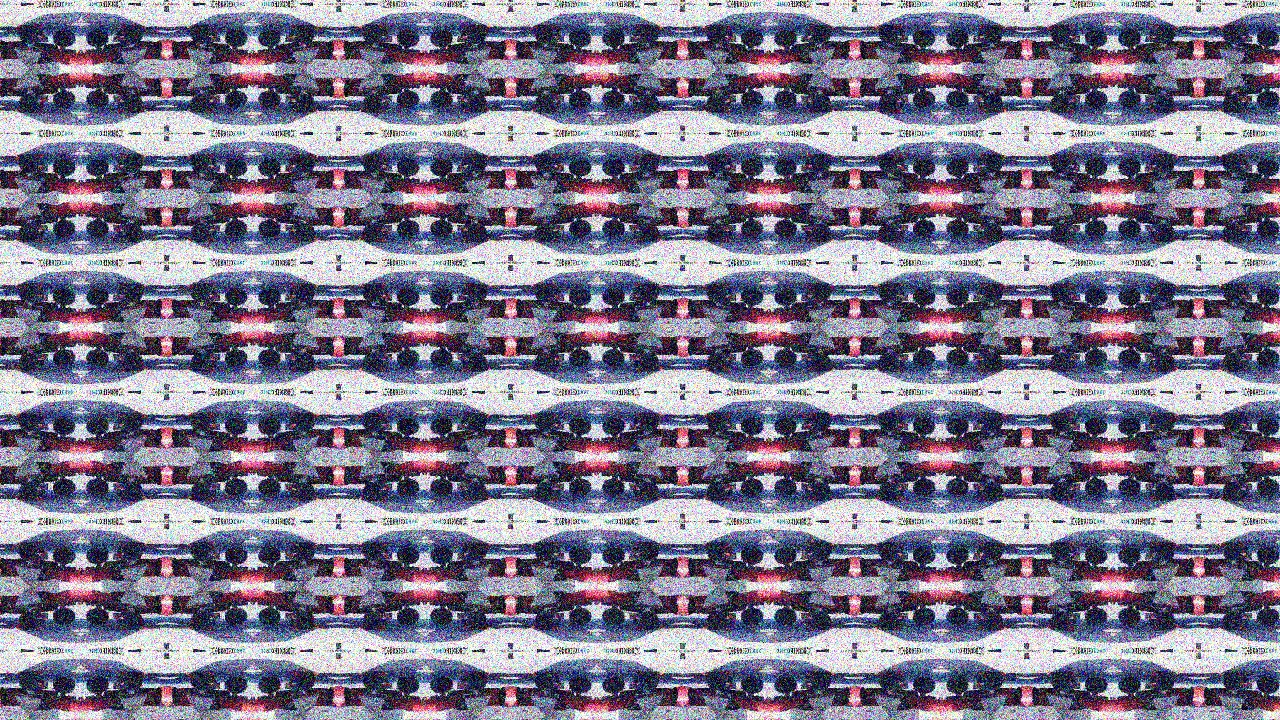chock: (35, 34, 46, 41), (111, 34, 122, 41), (208, 34, 219, 41), (284, 34, 295, 41), (380, 34, 391, 41), (457, 34, 468, 41), (553, 34, 564, 41), (629, 34, 640, 41), (726, 34, 737, 41), (802, 34, 813, 41), (898, 34, 909, 41), (975, 34, 986, 41), (1071, 34, 1082, 41), (1147, 34, 1158, 41), (1244, 34, 1255, 41), (35, 94, 46, 101), (111, 94, 122, 101), (208, 94, 219, 101), (284, 94, 295, 101), (380, 94, 391, 101), (457, 94, 468, 101), (553, 94, 564, 101), (629, 94, 640, 101), (726, 94, 737, 101), (802, 94, 813, 101), (898, 94, 909, 101), (975, 94, 986, 101), (1071, 94, 1082, 101), (1147, 94, 1158, 101), (1244, 94, 1255, 101), (35, 164, 46, 171), (111, 164, 122, 171), (208, 164, 219, 171), (284, 164, 295, 171), (380, 164, 391, 171), (457, 164, 468, 171), (553, 164, 564, 171), (629, 164, 640, 171), (726, 164, 737, 171), (802, 164, 813, 171), (898, 164, 909, 171), (975, 164, 986, 171), (1071, 164, 1082, 171), (1147, 164, 1158, 171), (1244, 164, 1255, 171), (35, 224, 46, 231), (111, 224, 122, 231), (208, 224, 219, 231), (284, 224, 295, 231), (380, 224, 391, 231), (457, 224, 468, 231), (553, 224, 564, 231), (629, 224, 640, 231), (726, 224, 737, 231), (802, 224, 813, 231), (898, 224, 909, 231), (975, 224, 986, 231), (1071, 224, 1082, 231), (1147, 224, 1158, 231), (1244, 224, 1255, 231), (35, 294, 46, 301), (111, 294, 122, 301), (208, 294, 219, 301), (284, 294, 295, 301), (380, 294, 391, 301), (457, 294, 468, 301), (553, 294, 564, 301), (629, 294, 640, 301), (726, 294, 737, 301), (802, 294, 813, 301), (898, 294, 909, 301), (975, 294, 986, 301), (1071, 294, 1082, 301), (1147, 294, 1158, 301), (1244, 294, 1255, 301), (35, 354, 46, 361), (111, 354, 122, 361), (208, 354, 219, 361), (284, 354, 295, 361), (380, 354, 391, 361), (457, 354, 468, 361), (553, 354, 564, 361), (629, 354, 640, 361), (726, 354, 737, 361), (802, 354, 813, 361), (898, 354, 909, 361), (975, 354, 986, 361), (1071, 354, 1082, 361), (1147, 354, 1158, 361), (1244, 354, 1255, 361), (35, 424, 46, 431), (111, 424, 122, 431), (208, 424, 219, 431), (284, 424, 295, 431), (380, 424, 391, 431), (457, 424, 468, 431), (553, 424, 564, 431), (629, 424, 640, 431), (726, 424, 737, 431), (802, 424, 813, 431), (898, 424, 909, 431), (975, 424, 986, 431), (1071, 424, 1082, 431), (1147, 424, 1158, 431), (1244, 424, 1255, 431), (35, 484, 46, 491), (111, 484, 122, 491), (208, 484, 219, 491), (284, 484, 295, 491), (380, 484, 391, 491), (457, 484, 468, 491), (553, 484, 564, 491), (629, 484, 640, 491), (726, 484, 737, 491), (802, 484, 813, 491), (898, 484, 909, 491), (975, 484, 986, 491), (1071, 484, 1082, 491), (1147, 484, 1158, 491), (1244, 484, 1255, 491), (35, 554, 46, 561), (111, 554, 122, 561), (208, 554, 219, 561), (284, 554, 295, 561), (380, 554, 391, 561), (457, 554, 468, 561), (553, 554, 564, 561), (629, 554, 640, 561), (726, 554, 737, 561), (802, 554, 813, 561), (898, 554, 909, 561), (975, 554, 986, 561), (1071, 554, 1082, 561), (1147, 554, 1158, 561), (1244, 554, 1255, 561), (35, 614, 46, 621), (111, 614, 122, 621), (208, 614, 219, 621), (284, 614, 295, 621), (380, 614, 391, 621), (457, 614, 468, 621), (553, 614, 564, 621), (629, 614, 640, 621), (726, 614, 737, 621), (802, 614, 813, 621), (898, 614, 909, 621), (975, 614, 986, 621), (1071, 614, 1082, 621), (1147, 614, 1158, 621), (1244, 614, 1255, 621), (35, 684, 46, 691), (111, 684, 122, 691), (208, 684, 219, 691), (284, 684, 295, 691), (380, 684, 391, 691), (457, 684, 468, 691), (553, 684, 564, 691), (629, 684, 640, 691), (726, 684, 737, 691), (802, 684, 813, 691), (898, 684, 909, 691), (975, 684, 986, 691), (1071, 684, 1082, 691), (1147, 684, 1158, 691), (1244, 684, 1255, 691), (115, 23, 126, 29), (204, 23, 215, 29), (633, 23, 644, 29), (722, 23, 733, 29), (1151, 23, 1162, 29), (1240, 23, 1251, 29), (115, 106, 126, 112), (204, 106, 215, 112), (633, 106, 644, 112), (722, 106, 733, 112), (1151, 106, 1162, 112), (1240, 106, 1251, 112), (115, 153, 126, 159), (204, 153, 215, 159), (633, 153, 644, 159), (722, 153, 733, 159), (1151, 153, 1162, 159), (1240, 153, 1251, 159), (115, 236, 126, 242), (204, 236, 215, 242), (633, 236, 644, 242), (722, 236, 733, 242), (1151, 236, 1162, 242), (1240, 236, 1251, 242), (115, 283, 126, 289), (204, 283, 215, 289), (633, 283, 644, 289), (722, 283, 733, 289), (1151, 283, 1162, 289), (1240, 283, 1251, 289), (115, 366, 126, 372), (204, 366, 215, 372), (633, 366, 644, 372), (722, 366, 733, 372), (1151, 366, 1162, 372), (1240, 366, 1251, 372), (115, 413, 126, 419), (204, 413, 215, 419), (633, 413, 644, 419), (722, 413, 733, 419), (1151, 413, 1162, 419), (1240, 413, 1251, 419), (115, 496, 126, 502), (204, 496, 215, 502), (633, 496, 644, 502), (722, 496, 733, 502), (1151, 496, 1162, 502), (1240, 496, 1251, 502), (115, 543, 126, 549), (204, 543, 215, 549), (633, 543, 644, 549), (722, 543, 733, 549), (1151, 543, 1162, 549), (1240, 543, 1251, 549), (115, 626, 126, 632), (204, 626, 215, 632), (633, 626, 644, 632), (722, 626, 733, 632), (1151, 626, 1162, 632), (1240, 626, 1251, 632), (115, 673, 126, 679), (204, 673, 215, 679), (633, 673, 644, 679), (722, 673, 733, 679), (1151, 673, 1162, 679), (1240, 673, 1251, 679), (32, 23, 42, 29), (288, 23, 298, 29), (377, 23, 387, 29), (461, 23, 471, 29), (550, 23, 560, 29), (806, 23, 816, 29), (895, 23, 905, 29), (979, 23, 989, 29), (1068, 23, 1078, 29), (32, 106, 42, 112), (288, 106, 298, 112), (377, 106, 387, 112), (461, 106, 471, 112), (550, 106, 560, 112), (806, 106, 816, 112), (895, 106, 905, 112), (979, 106, 989, 112), (1068, 106, 1078, 112), (32, 153, 42, 159), (288, 153, 298, 159), (377, 153, 387, 159), (461, 153, 471, 159), (550, 153, 560, 159), (806, 153, 816, 159), (895, 153, 905, 159), (979, 153, 989, 159), (1068, 153, 1078, 159), (32, 236, 42, 242), (288, 236, 298, 242), (377, 236, 387, 242), (461, 236, 471, 242), (550, 236, 560, 242), (806, 236, 816, 242), (895, 236, 905, 242), (979, 236, 989, 242), (1068, 236, 1078, 242), (32, 283, 42, 289), (288, 283, 298, 289), (377, 283, 387, 289), (461, 283, 471, 289), (550, 283, 560, 289), (806, 283, 816, 289), (895, 283, 905, 289), (979, 283, 989, 289), (1068, 283, 1078, 289), (32, 366, 42, 372), (288, 366, 298, 372), (377, 366, 387, 372), (461, 366, 471, 372), (550, 366, 560, 372), (806, 366, 816, 372), (895, 366, 905, 372), (979, 366, 989, 372), (1068, 366, 1078, 372), (32, 413, 42, 419), (288, 413, 298, 419), (377, 413, 387, 419), (461, 413, 471, 419), (550, 413, 560, 419), (806, 413, 816, 419), (895, 413, 905, 419), (979, 413, 989, 419), (1068, 413, 1078, 419), (32, 496, 42, 502), (288, 496, 298, 502), (377, 496, 387, 502), (461, 496, 471, 502), (550, 496, 560, 502), (806, 496, 816, 502), (895, 496, 905, 502), (979, 496, 989, 502), (1068, 496, 1078, 502), (32, 543, 42, 549), (288, 543, 298, 549), (377, 543, 387, 549), (461, 543, 471, 549), (550, 543, 560, 549), (806, 543, 816, 549), (895, 543, 905, 549), (979, 543, 989, 549), (1068, 543, 1078, 549), (32, 626, 42, 632), (288, 626, 298, 632), (377, 626, 387, 632), (461, 626, 471, 632), (550, 626, 560, 632), (806, 626, 816, 632), (895, 626, 905, 632), (979, 626, 989, 632), (1068, 626, 1078, 632), (32, 673, 42, 679), (288, 673, 298, 679), (377, 673, 387, 679), (461, 673, 471, 679), (550, 673, 560, 679), (806, 673, 816, 679), (895, 673, 905, 679), (979, 673, 989, 679), (1068, 673, 1078, 679), (12, 105, 21, 111), (309, 105, 318, 111), (357, 105, 366, 111), (482, 105, 491, 111), (530, 105, 539, 111), (827, 105, 836, 111), (875, 105, 884, 111), (1000, 105, 1009, 111), (1048, 105, 1057, 111), (12, 235, 21, 241), (309, 235, 318, 241), (357, 235, 366, 241), (482, 235, 491, 241), (530, 235, 539, 241), (827, 235, 836, 241), (875, 235, 884, 241), (1000, 235, 1009, 241), (1048, 235, 1057, 241), (12, 365, 21, 371), (309, 365, 318, 371), (357, 365, 366, 371), (482, 365, 491, 371), (530, 365, 539, 371), (827, 365, 836, 371), (875, 365, 884, 371), (1000, 365, 1009, 371), (1048, 365, 1057, 371), (12, 495, 21, 501), (309, 495, 318, 501), (357, 495, 366, 501), (482, 495, 491, 501), (530, 495, 539, 501), (827, 495, 836, 501), (875, 495, 884, 501), (1000, 495, 1009, 501), (1048, 495, 1057, 501), (12, 625, 21, 631), (309, 625, 318, 631), (357, 625, 366, 631), (482, 625, 491, 631), (530, 625, 539, 631), (827, 625, 836, 631), (875, 625, 884, 631), (1000, 625, 1009, 631), (1048, 625, 1057, 631), (137, 105, 145, 111), (185, 105, 193, 111), (655, 105, 663, 111), (703, 105, 711, 111), (1173, 105, 1181, 111), (1221, 105, 1229, 111), (137, 235, 145, 241), (185, 235, 193, 241), (655, 235, 663, 241), (703, 235, 711, 241), (1173, 235, 1181, 241), (1221, 235, 1229, 241), (137, 365, 145, 371), (185, 365, 193, 371), (655, 365, 663, 371), (703, 365, 711, 371), (1173, 365, 1181, 371), (1221, 365, 1229, 371), (137, 495, 145, 501), (185, 495, 193, 501), (655, 495, 663, 501), (703, 495, 711, 501), (1173, 495, 1181, 501), (1221, 495, 1229, 501), (137, 625, 145, 631), (185, 625, 193, 631), (655, 625, 663, 631), (703, 625, 711, 631), (1173, 625, 1181, 631), (1221, 625, 1229, 631), (12, 24, 21, 29), (309, 24, 318, 29), (357, 24, 366, 29), (482, 24, 491, 29), (530, 24, 539, 29), (827, 24, 836, 29), (875, 24, 884, 29), (1000, 24, 1009, 29), (1048, 24, 1057, 29), (12, 154, 21, 159), (309, 154, 318, 159), (357, 154, 366, 159), (482, 154, 491, 159), (530, 154, 539, 159), (827, 154, 836, 159), (875, 154, 884, 159), (1000, 154, 1009, 159), (1048, 154, 1057, 159), (12, 284, 21, 289), (309, 284, 318, 289), (357, 284, 366, 289), (482, 284, 491, 289), (530, 284, 539, 289), (827, 284, 836, 289), (875, 284, 884, 289), (1000, 284, 1009, 289), (1048, 284, 1057, 289), (12, 414, 21, 419), (309, 414, 318, 419), (357, 414, 366, 419), (482, 414, 491, 419), (530, 414, 539, 419), (827, 414, 836, 419), (875, 414, 884, 419), (1000, 414, 1009, 419), (1048, 414, 1057, 419), (12, 544, 21, 549), (309, 544, 318, 549), (357, 544, 366, 549), (482, 544, 491, 549), (530, 544, 539, 549), (827, 544, 836, 549), (875, 544, 884, 549), (1000, 544, 1009, 549), (1048, 544, 1057, 549), (12, 674, 21, 679), (309, 674, 318, 679), (357, 674, 366, 679), (482, 674, 491, 679), (530, 674, 539, 679), (827, 674, 836, 679), (875, 674, 884, 679), (1000, 674, 1009, 679), (1048, 674, 1057, 679), (137, 24, 145, 29), (185, 24, 193, 29), (655, 24, 663, 29), (703, 24, 711, 29), (1173, 24, 1181, 29), (1221, 24, 1229, 29), (137, 154, 145, 159), (185, 154, 193, 159), (655, 154, 663, 159), (703, 154, 711, 159), (1173, 154, 1181, 159), (1221, 154, 1229, 159), (137, 284, 145, 289), (185, 284, 193, 289), (655, 284, 663, 289), (703, 284, 711, 289), (1173, 284, 1181, 289), (1221, 284, 1229, 289), (137, 414, 145, 419), (185, 414, 193, 419), (655, 414, 663, 419), (703, 414, 711, 419), (1173, 414, 1181, 419), (1221, 414, 1229, 419), (137, 544, 145, 549), (185, 544, 193, 549), (655, 544, 663, 549), (703, 544, 711, 549), (1173, 544, 1181, 549), (1221, 544, 1229, 549), (137, 674, 145, 679), (185, 674, 193, 679), (655, 674, 663, 679), (703, 674, 711, 679), (1173, 674, 1181, 679), (1221, 674, 1229, 679), (162, 4, 165, 11), (165, 4, 168, 11), (335, 4, 338, 11), (510, 4, 513, 11), (680, 4, 683, 11), (683, 4, 686, 11), (853, 4, 856, 11), (1028, 4, 1031, 11), (1198, 4, 1201, 11), (1201, 4, 1204, 11), (162, 134, 165, 141), (165, 134, 168, 141), (335, 134, 338, 141), (510, 134, 513, 141), (680, 134, 683, 141), (683, 134, 686, 141), (853, 134, 856, 141), (1028, 134, 1031, 141), (1198, 134, 1201, 141), (1201, 134, 1204, 141), (162, 264, 165, 271), (165, 264, 168, 271), (335, 264, 338, 271), (510, 264, 513, 271), (680, 264, 683, 271), (683, 264, 686, 271), (853, 264, 856, 271), (1028, 264, 1031, 271), (1198, 264, 1201, 271), (1201, 264, 1204, 271), (162, 394, 165, 401), (165, 394, 168, 401), (335, 394, 338, 401), (510, 394, 513, 401), (680, 394, 683, 401), (683, 394, 686, 401), (853, 394, 856, 401), (1028, 394, 1031, 401), (1198, 394, 1201, 401), (1201, 394, 1204, 401), (162, 524, 165, 531), (165, 524, 168, 531), (335, 524, 338, 531), (510, 524, 513, 531), (680, 524, 683, 531), (683, 524, 686, 531), (853, 524, 856, 531), (1028, 524, 1031, 531), (1198, 524, 1201, 531), (1201, 524, 1204, 531), (162, 654, 165, 661), (165, 654, 168, 661), (335, 654, 338, 661), (510, 654, 513, 661), (680, 654, 683, 661), (683, 654, 686, 661), (853, 654, 856, 661), (1028, 654, 1031, 661), (1198, 654, 1201, 661), (1201, 654, 1204, 661), (162, 124, 165, 130), (165, 124, 168, 130), (335, 124, 338, 130), (510, 124, 513, 130), (680, 124, 683, 130), (683, 124, 686, 130), (853, 124, 856, 130), (1028, 124, 1031, 130), (1198, 124, 1201, 130), (1201, 124, 1204, 130), (162, 254, 165, 260), (165, 254, 168, 260), (335, 254, 338, 260), (510, 254, 513, 260), (680, 254, 683, 260), (683, 254, 686, 260), (853, 254, 856, 260), (1028, 254, 1031, 260), (1198, 254, 1201, 260), (1201, 254, 1204, 260), (162, 384, 165, 390), (165, 384, 168, 390), (335, 384, 338, 390), (510, 384, 513, 390), (680, 384, 683, 390), (683, 384, 686, 390), (853, 384, 856, 390), (1028, 384, 1031, 390), (1198, 384, 1201, 390), (1201, 384, 1204, 390), (162, 514, 165, 520), (165, 514, 168, 520), (335, 514, 338, 520), (510, 514, 513, 520), (680, 514, 683, 520), (683, 514, 686, 520), (853, 514, 856, 520), (1028, 514, 1031, 520), (1198, 514, 1201, 520), (1201, 514, 1204, 520), (162, 644, 165, 650), (165, 644, 168, 650), (335, 644, 338, 650), (510, 644, 513, 650), (680, 644, 683, 650), (683, 644, 686, 650), (853, 644, 856, 650), (1028, 644, 1031, 650), (1198, 644, 1201, 650), (1201, 644, 1204, 650), (338, 4, 340, 11), (508, 4, 510, 11), (856, 4, 858, 11), (1026, 4, 1028, 11), (338, 134, 340, 141), (508, 134, 510, 141), (856, 134, 858, 141), (1026, 134, 1028, 141), (338, 264, 340, 271), (508, 264, 510, 271), (856, 264, 858, 271), (1026, 264, 1028, 271), (338, 394, 340, 401), (508, 394, 510, 401), (856, 394, 858, 401), (1026, 394, 1028, 401), (338, 524, 340, 531), (508, 524, 510, 531), (856, 524, 858, 531), (1026, 524, 1028, 531), (338, 654, 340, 661), (508, 654, 510, 661), (856, 654, 858, 661), (1026, 654, 1028, 661), (338, 124, 340, 130), (508, 124, 510, 130), (856, 124, 858, 130), (1026, 124, 1028, 130), (338, 254, 340, 260), (508, 254, 510, 260), (856, 254, 858, 260), (1026, 254, 1028, 260), (338, 384, 340, 390), (508, 384, 510, 390), (856, 384, 858, 390), (1026, 384, 1028, 390), (338, 514, 340, 520), (508, 514, 510, 520), (856, 514, 858, 520), (1026, 514, 1028, 520), (338, 644, 340, 650), (508, 644, 510, 650), (856, 644, 858, 650), (1026, 644, 1028, 650)
wheel: (119, 92, 142, 112), (188, 92, 211, 112), (361, 92, 384, 112), (464, 92, 487, 112), (637, 92, 660, 112), (706, 92, 729, 112), (879, 92, 902, 112), (982, 92, 1005, 112), (1155, 92, 1178, 112), (1224, 92, 1247, 112), (119, 222, 142, 242), (188, 222, 211, 242), (361, 222, 384, 242), (464, 222, 487, 242), (637, 222, 660, 242), (706, 222, 729, 242), (879, 222, 902, 242), (982, 222, 1005, 242), (1155, 222, 1178, 242), (1224, 222, 1247, 242), (119, 352, 142, 372), (188, 352, 211, 372), (361, 352, 384, 372), (464, 352, 487, 372), (637, 352, 660, 372), (706, 352, 729, 372), (879, 352, 902, 372), (982, 352, 1005, 372), (1155, 352, 1178, 372), (1224, 352, 1247, 372), (119, 482, 142, 502), (188, 482, 211, 502), (361, 482, 384, 502), (464, 482, 487, 502), (637, 482, 660, 502), (706, 482, 729, 502), (879, 482, 902, 502), (982, 482, 1005, 502), (1155, 482, 1178, 502), (1224, 482, 1247, 502), (119, 612, 142, 632), (188, 612, 211, 632), (361, 612, 384, 632), (464, 612, 487, 632), (637, 612, 660, 632), (706, 612, 729, 632), (879, 612, 902, 632), (982, 612, 1005, 632), (1155, 612, 1178, 632), (1224, 612, 1247, 632), (16, 92, 38, 112), (292, 92, 314, 112), (534, 92, 556, 112), (810, 92, 832, 112), (1052, 92, 1074, 112), (16, 222, 38, 242), (292, 222, 314, 242), (534, 222, 556, 242), (810, 222, 832, 242), (1052, 222, 1074, 242), (16, 352, 38, 372), (292, 352, 314, 372), (534, 352, 556, 372), (810, 352, 832, 372), (1052, 352, 1074, 372), (16, 482, 38, 502), (292, 482, 314, 502), (534, 482, 556, 502), (810, 482, 832, 502), (1052, 482, 1074, 502), (16, 612, 38, 632), (292, 612, 314, 632), (534, 612, 556, 632), (810, 612, 832, 632), (1052, 612, 1074, 632), (119, 23, 142, 42), (188, 23, 211, 42), (361, 23, 384, 42), (464, 23, 487, 42), (637, 23, 660, 42), (706, 23, 729, 42), (879, 23, 902, 42), (982, 23, 1005, 42), (1155, 23, 1178, 42), (1224, 23, 1247, 42), (119, 153, 142, 172), (188, 153, 211, 172), (361, 153, 384, 172), (464, 153, 487, 172), (637, 153, 660, 172), (706, 153, 729, 172), (879, 153, 902, 172), (982, 153, 1005, 172), (1155, 153, 1178, 172), (1224, 153, 1247, 172), (119, 283, 142, 302), (188, 283, 211, 302), (361, 283, 384, 302), (464, 283, 487, 302), (637, 283, 660, 302), (706, 283, 729, 302), (879, 283, 902, 302), (982, 283, 1005, 302), (1155, 283, 1178, 302), (1224, 283, 1247, 302), (119, 413, 142, 432), (188, 413, 211, 432), (361, 413, 384, 432), (464, 413, 487, 432), (637, 413, 660, 432), (706, 413, 729, 432), (879, 413, 902, 432), (982, 413, 1005, 432), (1155, 413, 1178, 432), (1224, 413, 1247, 432), (119, 543, 142, 562), (188, 543, 211, 562), (361, 543, 384, 562), (464, 543, 487, 562), (637, 543, 660, 562), (706, 543, 729, 562), (879, 543, 902, 562), (982, 543, 1005, 562), (1155, 543, 1178, 562), (1224, 543, 1247, 562), (119, 673, 142, 692), (188, 673, 211, 692), (361, 673, 384, 692), (464, 673, 487, 692), (637, 673, 660, 692), (706, 673, 729, 692), (879, 673, 902, 692), (982, 673, 1005, 692), (1155, 673, 1178, 692), (1224, 673, 1247, 692), (49, 28, 74, 45), (83, 28, 108, 45), (222, 28, 247, 45), (256, 28, 281, 45), (394, 28, 419, 45), (429, 28, 454, 45), (567, 28, 592, 45), (601, 28, 626, 45), (740, 28, 765, 45), (774, 28, 799, 45), (912, 28, 937, 45), (947, 28, 972, 45), (1085, 28, 1110, 45), (1119, 28, 1144, 45), (49, 90, 74, 107), (83, 90, 108, 107), (222, 90, 247, 107), (256, 90, 281, 107), (394, 90, 419, 107), (429, 90, 454, 107), (567, 90, 592, 107), (601, 90, 626, 107), (740, 90, 765, 107), (774, 90, 799, 107), (912, 90, 937, 107), (947, 90, 972, 107), (1085, 90, 1110, 107), (1119, 90, 1144, 107), (49, 158, 74, 175), (83, 158, 108, 175), (222, 158, 247, 175), (256, 158, 281, 175), (394, 158, 419, 175), (429, 158, 454, 175), (567, 158, 592, 175), (601, 158, 626, 175), (740, 158, 765, 175), (774, 158, 799, 175), (912, 158, 937, 175), (947, 158, 972, 175), (1085, 158, 1110, 175), (1119, 158, 1144, 175), (49, 220, 74, 237), (83, 220, 108, 237), (222, 220, 247, 237), (256, 220, 281, 237), (394, 220, 419, 237), (429, 220, 454, 237), (567, 220, 592, 237), (601, 220, 626, 237), (740, 220, 765, 237), (774, 220, 799, 237), (912, 220, 937, 237), (947, 220, 972, 237), (1085, 220, 1110, 237), (1119, 220, 1144, 237), (49, 288, 74, 305), (83, 288, 108, 305), (222, 288, 247, 305), (256, 288, 281, 305), (394, 288, 419, 305), (429, 288, 454, 305), (567, 288, 592, 305), (601, 288, 626, 305), (740, 288, 765, 305), (774, 288, 799, 305), (912, 288, 937, 305), (947, 288, 972, 305), (1085, 288, 1110, 305), (1119, 288, 1144, 305), (49, 350, 74, 367), (83, 350, 108, 367), (222, 350, 247, 367), (256, 350, 281, 367), (394, 350, 419, 367), (429, 350, 454, 367), (567, 350, 592, 367), (601, 350, 626, 367), (740, 350, 765, 367), (774, 350, 799, 367), (912, 350, 937, 367), (947, 350, 972, 367), (1085, 350, 1110, 367), (1119, 350, 1144, 367), (49, 418, 74, 435), (83, 418, 108, 435), (222, 418, 247, 435), (256, 418, 281, 435), (394, 418, 419, 435), (429, 418, 454, 435), (567, 418, 592, 435), (601, 418, 626, 435), (740, 418, 765, 435), (774, 418, 799, 435), (912, 418, 937, 435), (947, 418, 972, 435), (1085, 418, 1110, 435), (1119, 418, 1144, 435), (49, 480, 74, 497), (83, 480, 108, 497), (222, 480, 247, 497), (256, 480, 281, 497), (394, 480, 419, 497), (429, 480, 454, 497), (567, 480, 592, 497), (601, 480, 626, 497), (740, 480, 765, 497), (774, 480, 799, 497), (912, 480, 937, 497), (947, 480, 972, 497), (1085, 480, 1110, 497), (1119, 480, 1144, 497), (49, 548, 74, 565), (83, 548, 108, 565), (222, 548, 247, 565), (256, 548, 281, 565), (394, 548, 419, 565), (429, 548, 454, 565), (567, 548, 592, 565), (601, 548, 626, 565), (740, 548, 765, 565), (774, 548, 799, 565), (912, 548, 937, 565), (947, 548, 972, 565), (1085, 548, 1110, 565), (1119, 548, 1144, 565), (49, 610, 74, 627), (83, 610, 108, 627), (222, 610, 247, 627), (256, 610, 281, 627), (394, 610, 419, 627), (429, 610, 454, 627), (567, 610, 592, 627), (601, 610, 626, 627), (740, 610, 765, 627), (774, 610, 799, 627), (912, 610, 937, 627), (947, 610, 972, 627), (1085, 610, 1110, 627), (1119, 610, 1144, 627), (49, 678, 74, 695), (83, 678, 108, 695), (222, 678, 247, 695), (256, 678, 281, 695), (394, 678, 419, 695), (429, 678, 454, 695), (567, 678, 592, 695), (601, 678, 626, 695), (740, 678, 765, 695), (774, 678, 799, 695), (912, 678, 937, 695), (947, 678, 972, 695), (1085, 678, 1110, 695), (1119, 678, 1144, 695), (16, 23, 38, 42), (292, 23, 314, 42), (534, 23, 556, 42), (810, 23, 832, 42), (1052, 23, 1074, 42), (16, 153, 38, 172), (292, 153, 314, 172), (534, 153, 556, 172), (810, 153, 832, 172), (1052, 153, 1074, 172), (16, 283, 38, 302), (292, 283, 314, 302), (534, 283, 556, 302), (810, 283, 832, 302), (1052, 283, 1074, 302), (16, 413, 38, 432), (292, 413, 314, 432), (534, 413, 556, 432), (810, 413, 832, 432), (1052, 413, 1074, 432), (16, 543, 38, 562), (292, 543, 314, 562), (534, 543, 556, 562), (810, 543, 832, 562), (1052, 543, 1074, 562), (16, 673, 38, 692), (292, 673, 314, 692), (534, 673, 556, 692), (810, 673, 832, 692), (1052, 673, 1074, 692), (1258, 28, 1280, 45), (1258, 90, 1280, 107), (1258, 158, 1280, 175), (1258, 220, 1280, 237), (1258, 288, 1280, 305), (1258, 350, 1280, 367), (1258, 418, 1280, 435), (1258, 480, 1280, 497), (1258, 548, 1280, 565), (1258, 610, 1280, 627), (1258, 678, 1280, 695)
